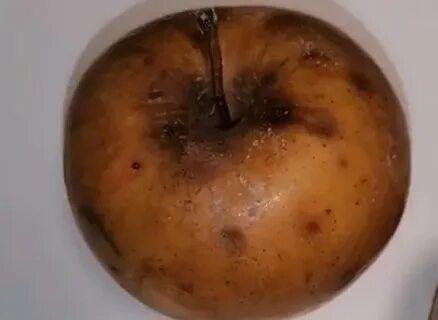Apple: (63, 8, 412, 318)
